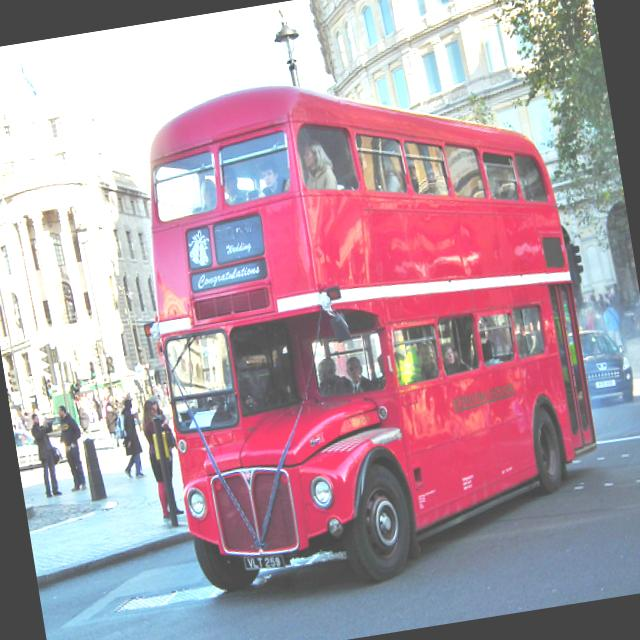Vehicle: (119, 41, 616, 621), (580, 323, 640, 409), (13, 420, 68, 470)
